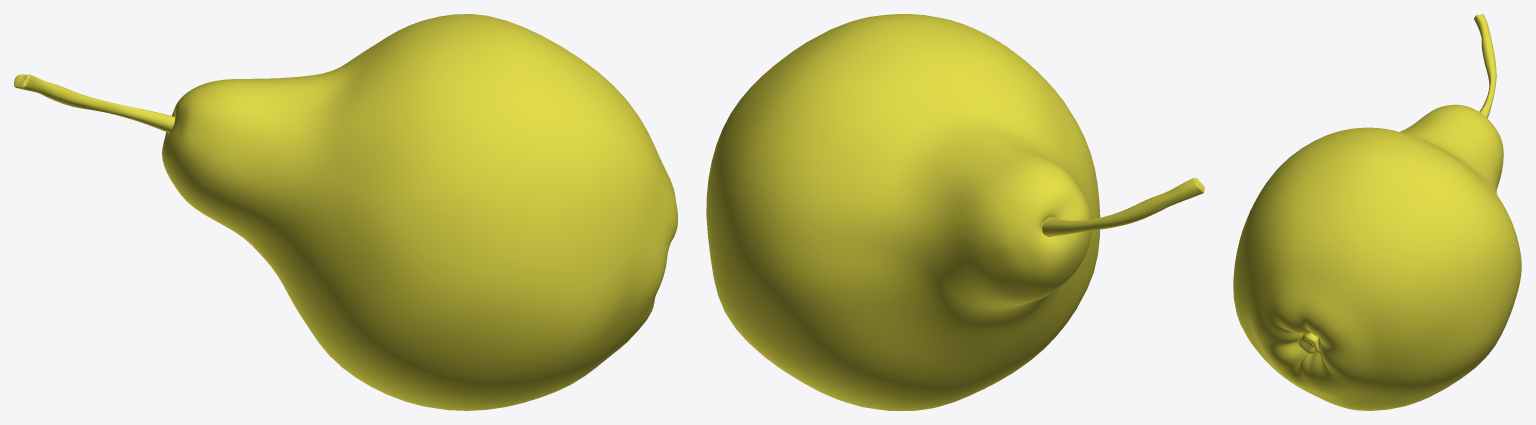
File: pear.fbx
3 views of the same model, side by side, from view 1: azimuth 30°, elevation 25°; view 2: azimuth 150°, elevation 25°; view 3: azimuth 270°, elevation 25° (orthographic). The views are drawn at different scales.
Visible parts, largest first — view 1: pear.001; view 2: pear.001; view 3: pear.001.
Boxes of the visible parts, x1,y1,x2,y2 form: pear.001: (14, 14, 677, 410); pear.001: (706, 14, 1204, 410); pear.001: (1233, 14, 1521, 410).
Bounding box in the file's own units: 525 × 326 × 334.
